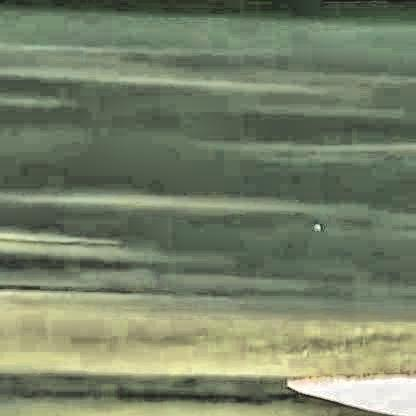golfball: (310, 218, 317, 228)
